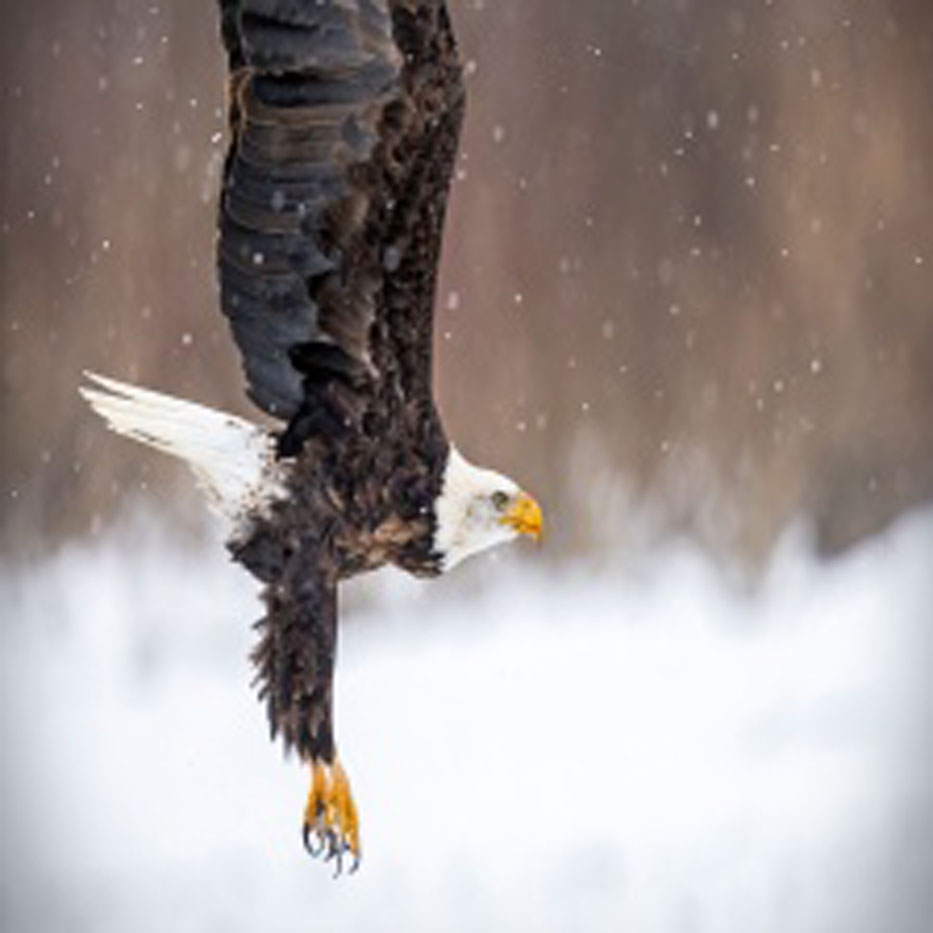Pengoyak Daging: (509, 486, 554, 548)
